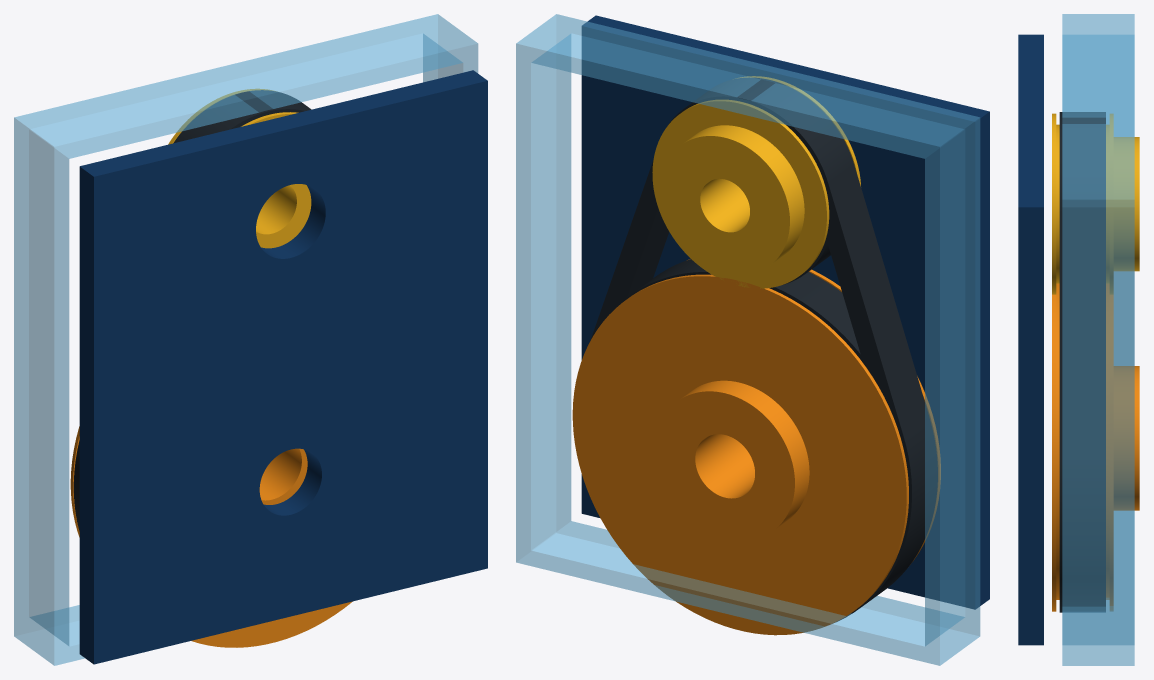
File: LD-20_candidate.glb
The picture shows the model from 3 angles, left to right: view 1: azimuth 30°, elevation 25°; view 2: azimuth 150°, elevation 25°; view 3: azimuth 270°, elevation 25°; orthographic projection. The views are drawn at different scales.
Visible parts, largest first — view 1: SLOTTED_CARRIER_PLATE, REMOVABLE_GUARD_ENVELOPE, MISUMI_OUTPUT_PULLEY_ENVELOPE, MISUMI_EV5GT_BELT_ROUTING_ENVELOPE, MISUMI_MOTOR_PULLEY_ENVELOPE; view 2: MISUMI_OUTPUT_PULLEY_ENVELOPE, REMOVABLE_GUARD_ENVELOPE, SLOTTED_CARRIER_PLATE, MISUMI_EV5GT_BELT_ROUTING_ENVELOPE, MISUMI_MOTOR_PULLEY_ENVELOPE; view 3: REMOVABLE_GUARD_ENVELOPE, MISUMI_EV5GT_BELT_ROUTING_ENVELOPE, SLOTTED_CARRIER_PLATE, MISUMI_OUTPUT_PULLEY_ENVELOPE, MISUMI_MOTOR_PULLEY_ENVELOPE.
Part boxes in pixels (left/top/right/bottom): SLOTTED_CARRIER_PLATE: left=79, top=70, right=487, bottom=664; REMOVABLE_GUARD_ENVELOPE: left=14, top=14, right=478, bottom=665; MISUMI_OUTPUT_PULLEY_ENVELOPE: left=70, top=426, right=352, bottom=647; MISUMI_EV5GT_BELT_ROUTING_ENVELOPE: left=73, top=90, right=311, bottom=531; MISUMI_MOTOR_PULLEY_ENVELOPE: left=168, top=89, right=311, bottom=248; MISUMI_OUTPUT_PULLEY_ENVELOPE: left=572, top=259, right=940, bottom=635; REMOVABLE_GUARD_ENVELOPE: left=516, top=14, right=980, bottom=665; SLOTTED_CARRIER_PLATE: left=581, top=15, right=989, bottom=609; MISUMI_EV5GT_BELT_ROUTING_ENVELOPE: left=590, top=77, right=937, bottom=622; MISUMI_MOTOR_PULLEY_ENVELOPE: left=652, top=76, right=860, bottom=288; REMOVABLE_GUARD_ENVELOPE: left=1062, top=14, right=1134, bottom=665; MISUMI_EV5GT_BELT_ROUTING_ENVELOPE: left=1059, top=112, right=1105, bottom=612; SLOTTED_CARRIER_PLATE: left=1018, top=34, right=1043, bottom=645; MISUMI_OUTPUT_PULLEY_ENVELOPE: left=1052, top=283, right=1139, bottom=611; MISUMI_MOTOR_PULLEY_ENVELOPE: left=1052, top=113, right=1139, bottom=294.
Size of the model in its own units: 85 by 104 by 23.5.
